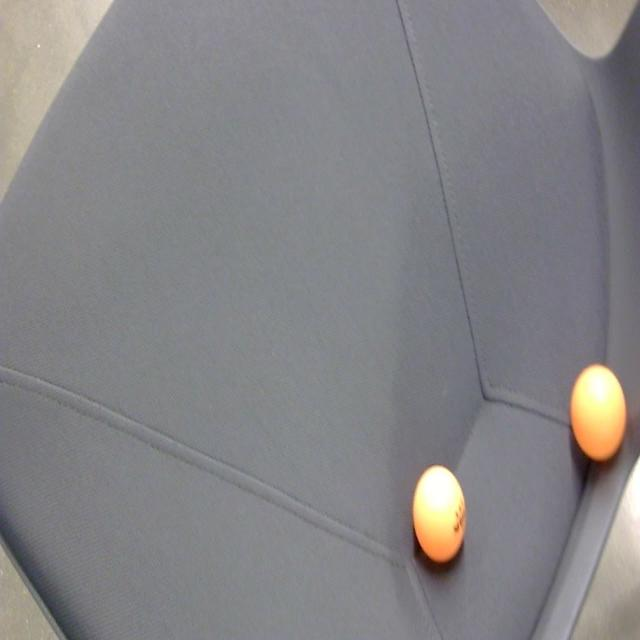ball: (409, 462, 469, 569), (568, 361, 627, 466)
